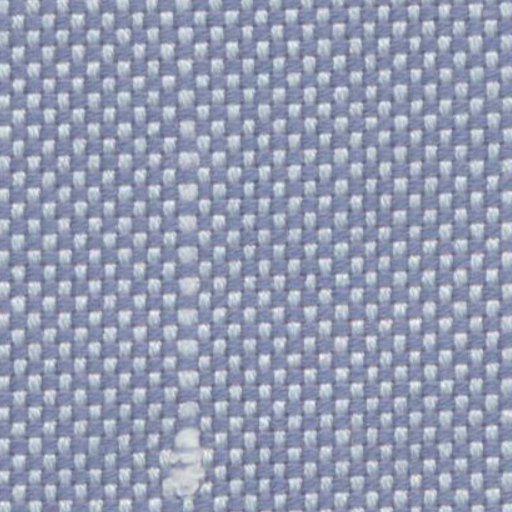DaiSha: (150, 92, 229, 502)
